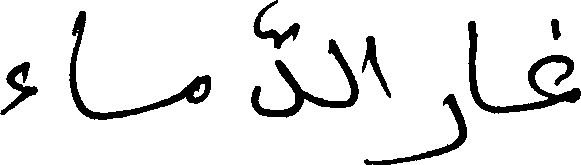ء: (0, 59, 40, 115)
ا: (67, 8, 85, 116), (365, 33, 393, 99), (466, 18, 479, 112)
د: (249, 0, 302, 118)
ر: (415, 92, 465, 161)
غ: (525, 16, 578, 111)
ل: (328, 36, 359, 108)
م: (184, 73, 213, 104)
